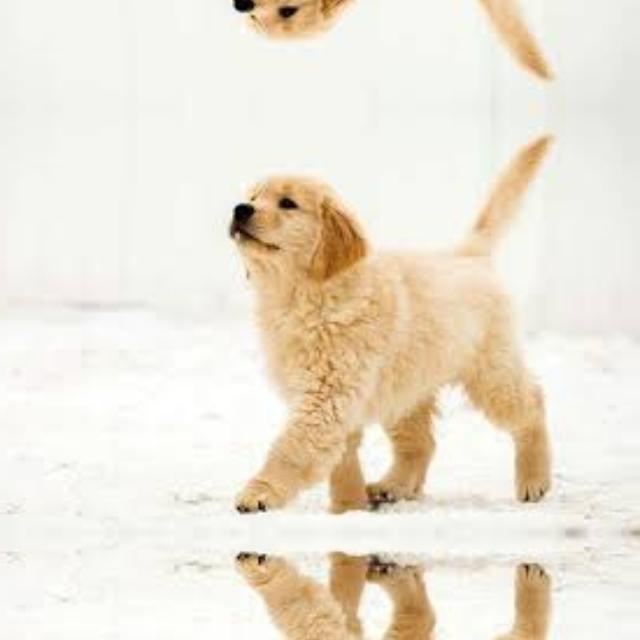dog: (212, 121, 580, 512), (213, 0, 580, 92), (213, 553, 580, 640)
